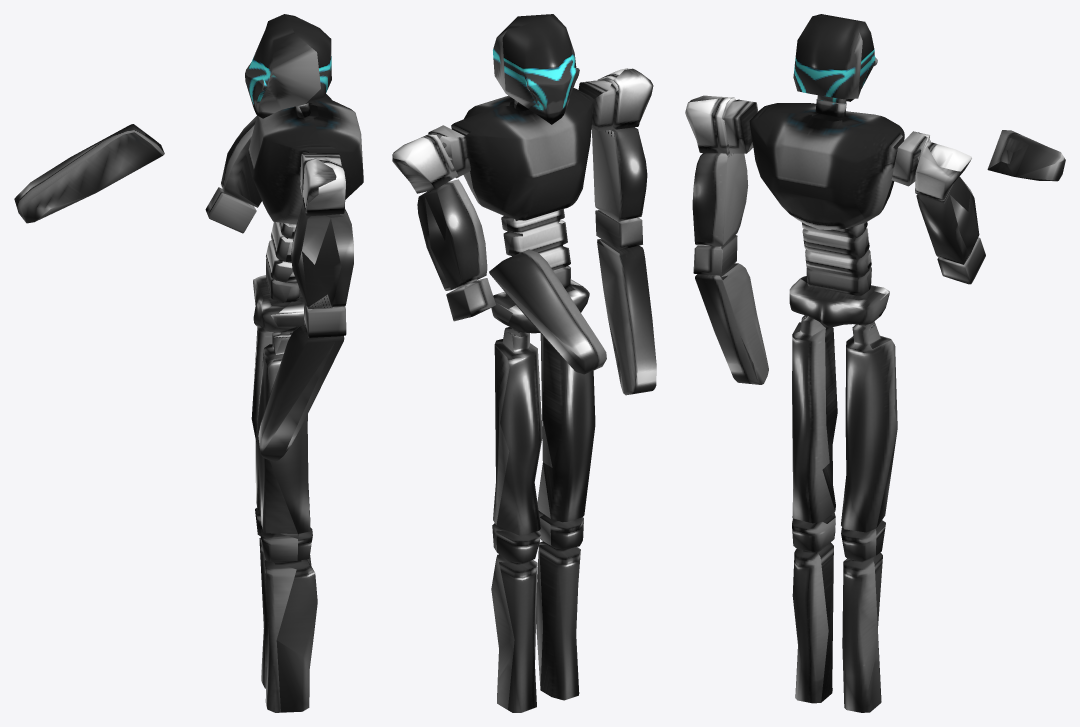
The model's file is frame_052.obj.
The picture shows the model from 3 angles, left to right: view 1: azimuth 30°, elevation 25°; view 2: azimuth 150°, elevation 25°; view 3: azimuth 270°, elevation 25°; orthographic projection.
Visible parts, largest first — view 1: Cyborg, PierzaI, Cabeza, BrazoD, AntebrazoD, PiernaD; view 2: Cyborg, PiernaD, PierzaI, AntebrazoD, Cabeza, BrazoD; view 3: Cyborg, PiernaD, PierzaI, AntebrazoD, Cabeza, BrazoD.
Boxes of the visible parts, <box> form: Cyborg: <box>247,94,363,461</box>; PierzaI: <box>256,331,317,712</box>; Cabeza: <box>245,14,331,118</box>; BrazoD: <box>14,124,164,223</box>; AntebrazoD: <box>205,116,261,233</box>; PiernaD: <box>251,326,311,688</box>; Cyborg: <box>428,68,656,395</box>; PiernaD: <box>491,327,542,712</box>; PierzaI: <box>536,334,595,700</box>; AntebrazoD: <box>392,134,495,321</box>; Cabeza: <box>493,14,579,124</box>; BrazoD: <box>489,249,606,374</box>; Cyborg: <box>685,95,930,384</box>; PiernaD: <box>841,321,897,712</box>; PierzaI: <box>792,315,837,703</box>; AntebrazoD: <box>915,141,985,284</box>; Cabeza: <box>793,14,877,101</box>; BrazoD: <box>987,130,1065,181</box>.
Bounding box in the file's own units: 9.91 × 24.74 × 12.5.
1 material, 1 textured.
